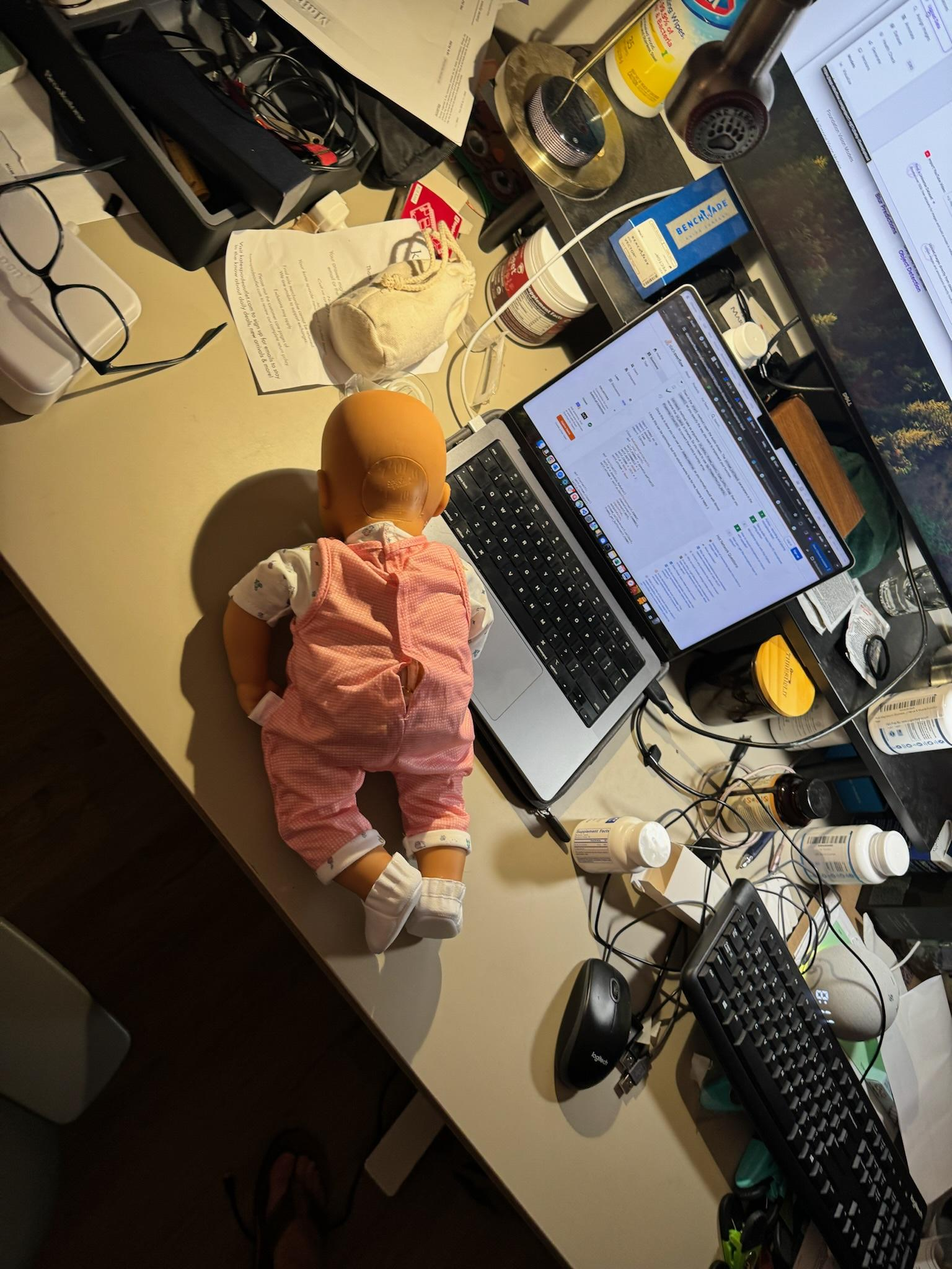baby: (223, 378, 519, 958)
